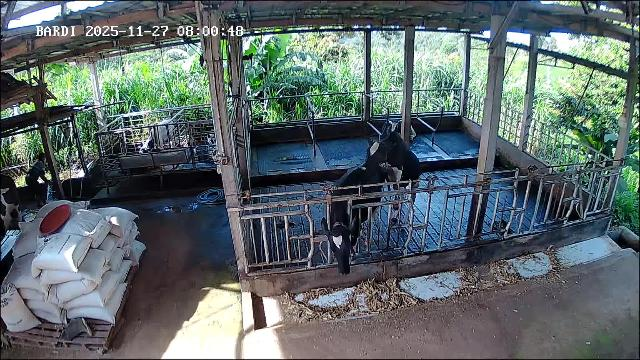mounting: (361, 130, 423, 226)
